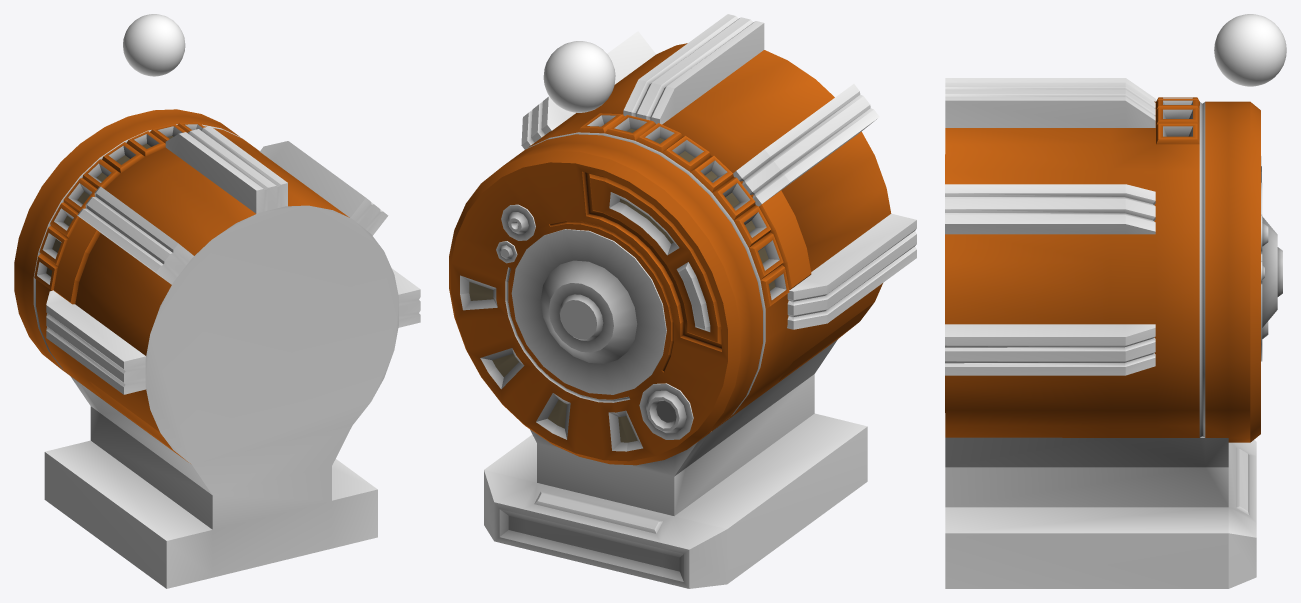
The model's file is deco_pipe_wallConnector.FBX.
3 views of the same model, side by side, from view 1: azimuth 30°, elevation 25°; view 2: azimuth 150°, elevation 25°; view 3: azimuth 270°, elevation 25° (orthographic). The views are drawn at different scales.
Parts seen in each view (by area): view 1: deco_pipe_wallConnector; view 2: deco_pipe_wallConnector; view 3: deco_pipe_wallConnector.
Part boxes in pixels (x1=…): deco_pipe_wallConnector: x1=14, y1=14, x2=420, y2=588; deco_pipe_wallConnector: x1=449, y1=14, x2=916, y2=588; deco_pipe_wallConnector: x1=945, y1=14, x2=1286, y2=588.
Bounding box in the file's own units: 1.4 × 2.02 × 1.21.
